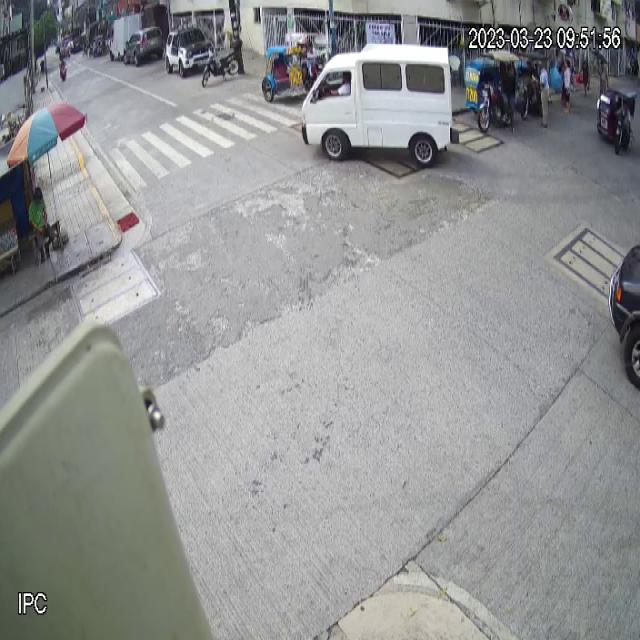Tricycle: (464, 50, 521, 134)
Van: (301, 42, 460, 169)
